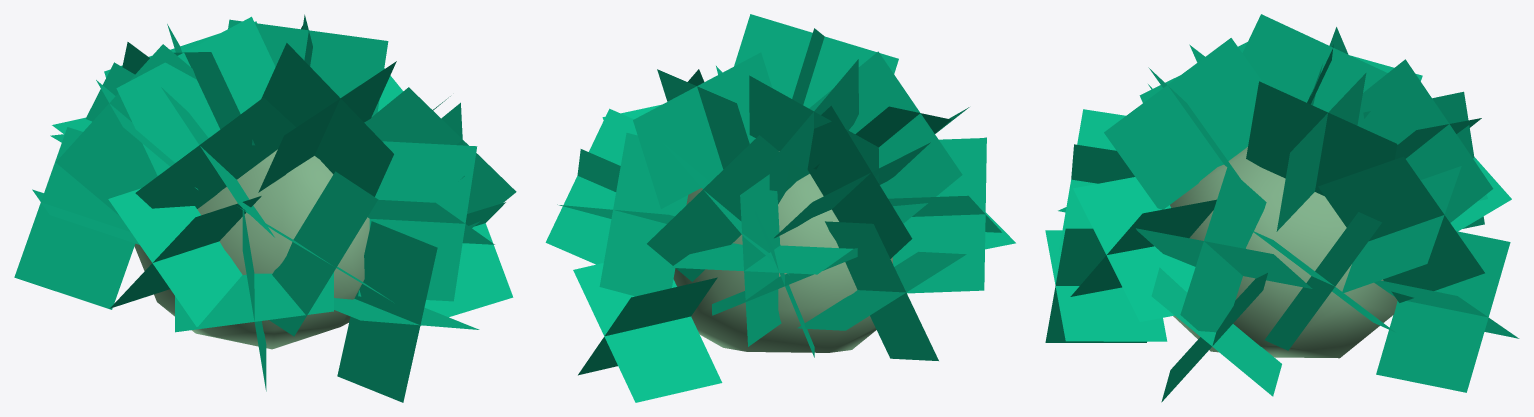
The model's file is GrassLandBushes.fbx.
3 renders of one model, left to right at view 1: azimuth 30°, elevation 25°; view 2: azimuth 150°, elevation 25°; view 3: azimuth 270°, elevation 25°, orthographic. The views are drawn at different scales.
Visible parts, largest first — view 1: Bush1; view 2: Bush1; view 3: Bush1.
Part boxes in pixels (left/top/right/bottom): Bush1: left=14, top=14, right=516, bottom=402; Bush1: left=545, top=14, right=1015, bottom=402; Bush1: left=1045, top=14, right=1519, bottom=402.
Bounding box in the file's own units: 1.94 × 1.35 × 1.93.
2 materials, 1 textured.
